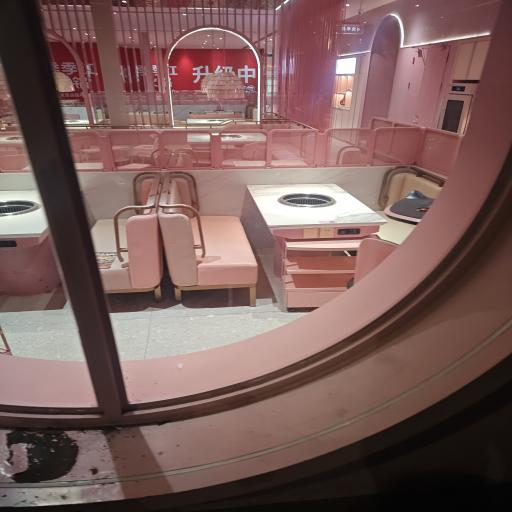couch: (118, 94, 286, 263), (80, 103, 204, 324)
dining table: (173, 181, 512, 426)
